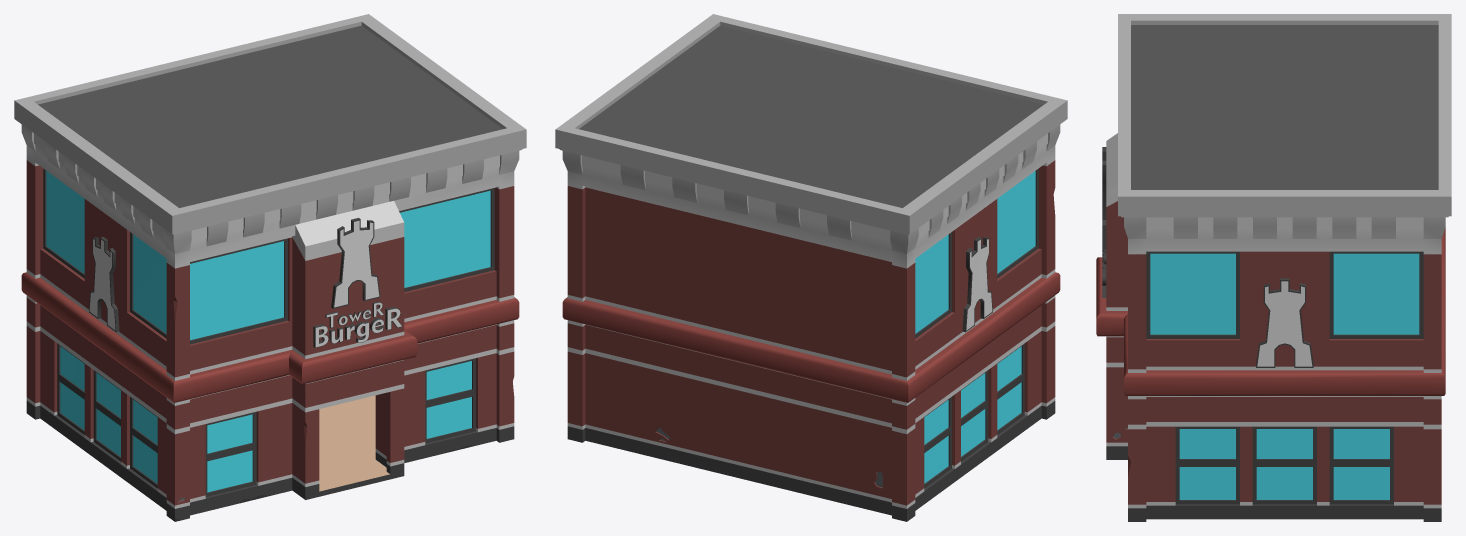
The model's file is SM_Buildings_Commercial_19.fbx.
3 renders of one model, left to right at view 1: azimuth 30°, elevation 25°; view 2: azimuth 150°, elevation 25°; view 3: azimuth 270°, elevation 25°, orthographic. The views are drawn at different scales.
Visible parts, largest first — view 1: SM_Buildings_Commercial_19; view 2: SM_Buildings_Commercial_19; view 3: SM_Buildings_Commercial_19.
Boxes of the visible parts, x1,y1,x2,y2 form: SM_Buildings_Commercial_19: (14,14,526,521); SM_Buildings_Commercial_19: (555,14,1067,521); SM_Buildings_Commercial_19: (1096,14,1451,521).
Size of the model in its own units: 10.76 by 9.04 by 8.84.
